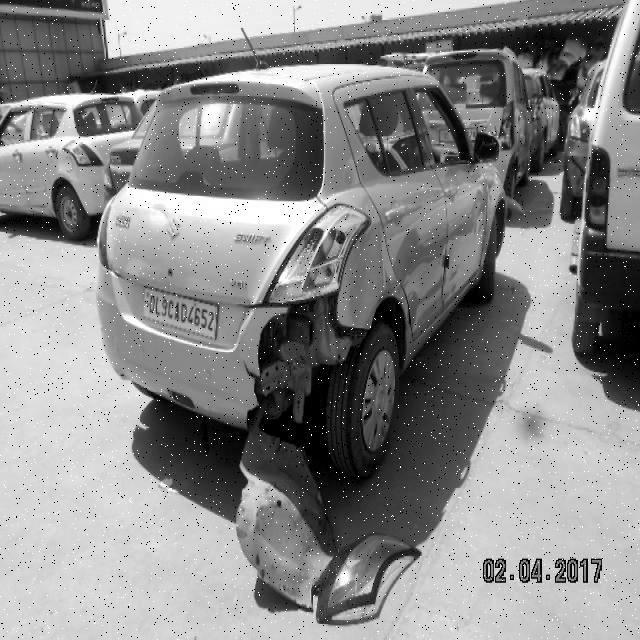rear-bumper-dent: (107, 278, 354, 428)
